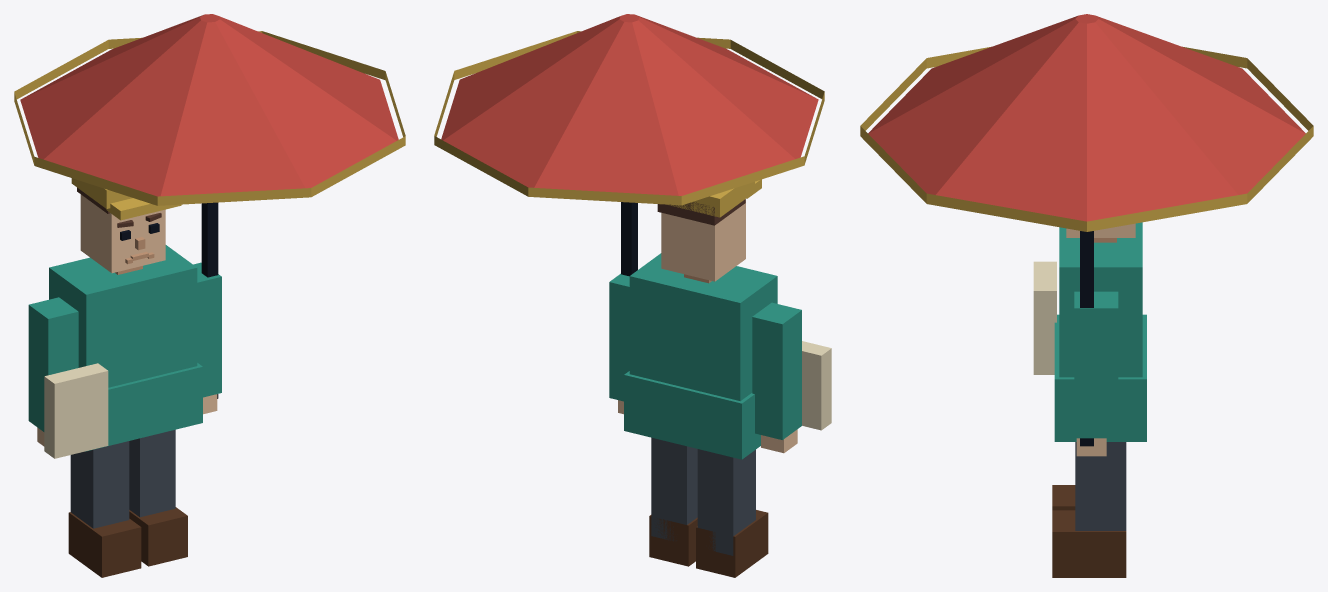
File: npc_sergei.glb
3 renders of one model, left to right at view 1: azimuth 30°, elevation 25°; view 2: azimuth 150°, elevation 25°; view 3: azimuth 270°, elevation 25°, orthographic. The views are drawn at different scales.
Parts seen in each view (by area): view 1: npc_sergei; view 2: npc_sergei; view 3: npc_sergei.
Part boxes in pixels (x1,y1,x2,y2): npc_sergei: (14, 14, 405, 577); npc_sergei: (434, 14, 831, 577); npc_sergei: (860, 14, 1313, 577).
Size of the model in its own units: 1.98 by 2.77 by 1.96.
Materials: 1 (1 with a texture image).
